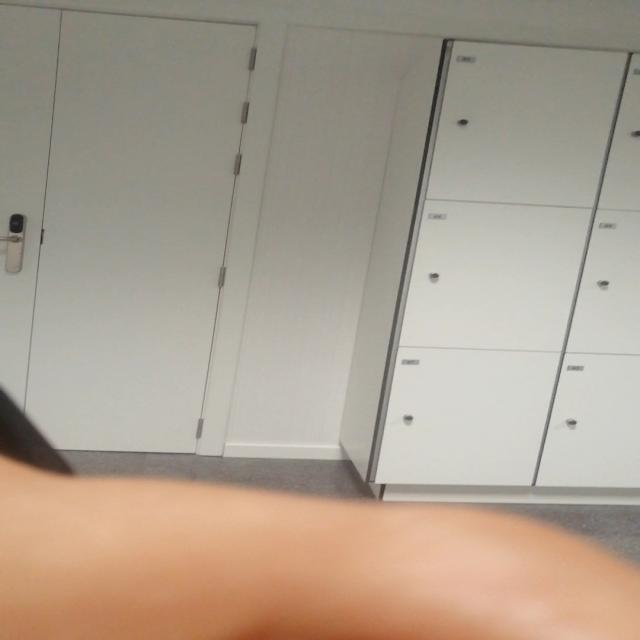door_handle: (0, 232, 27, 243)
